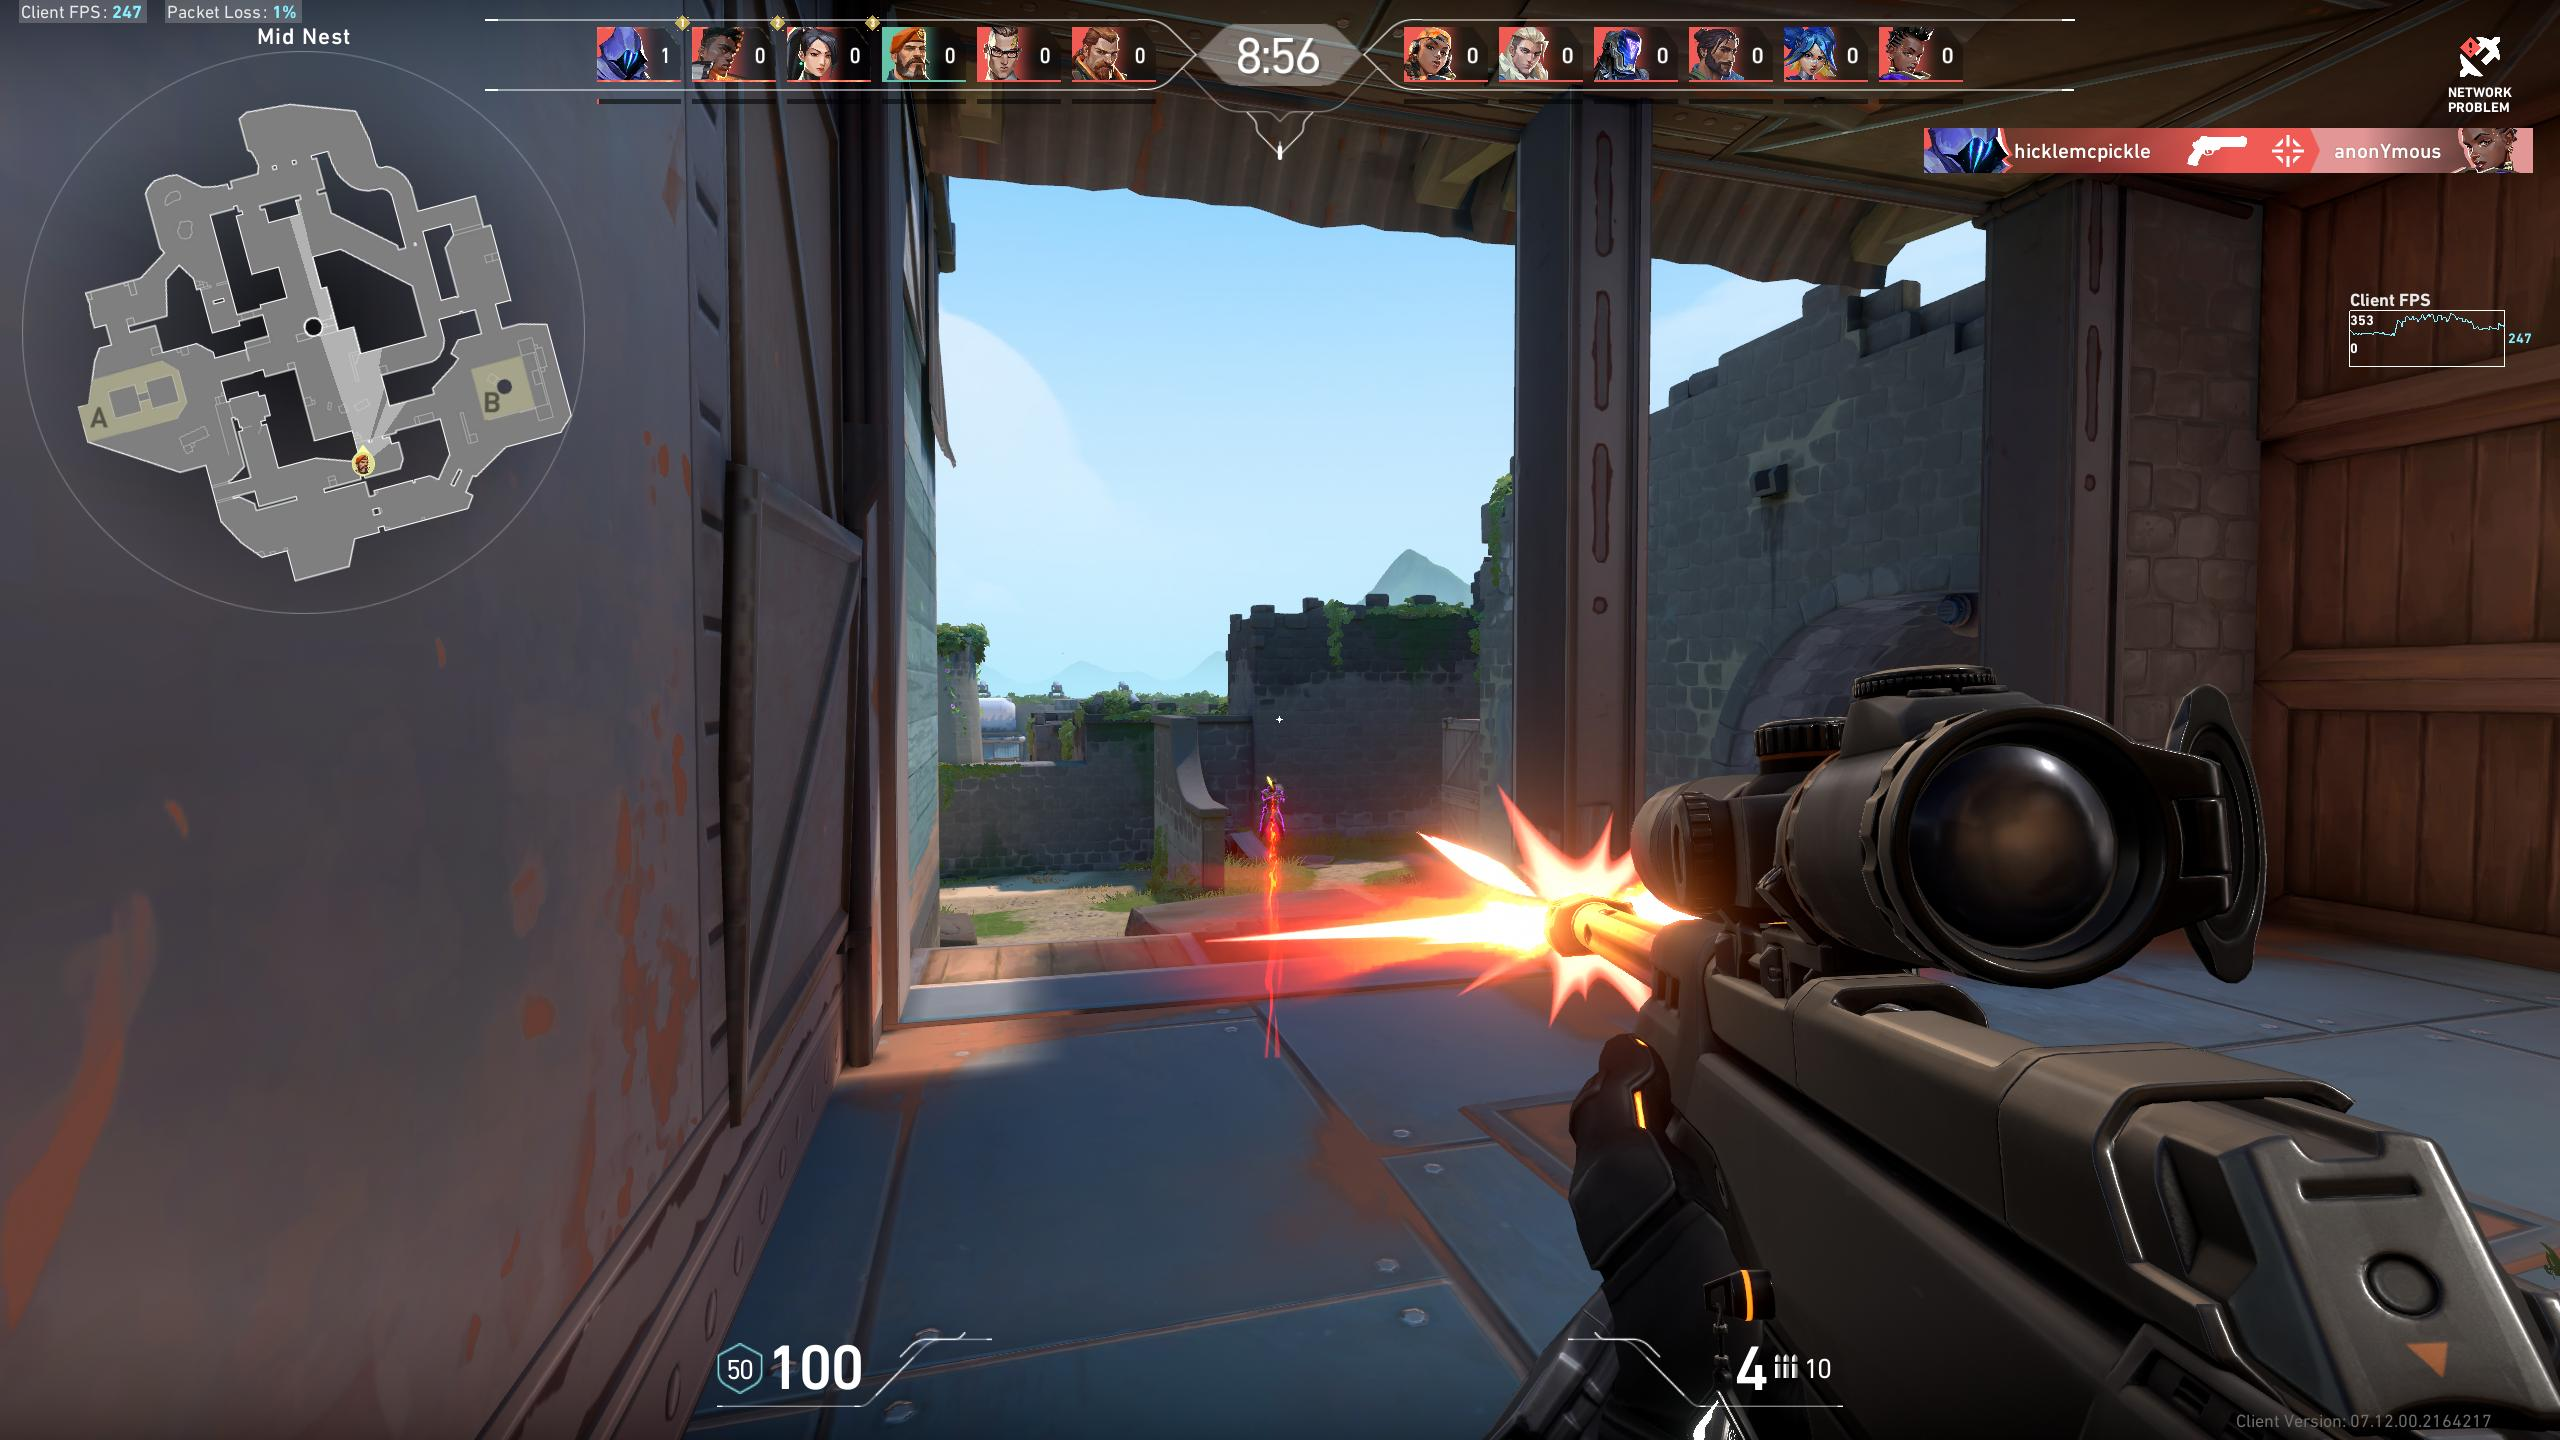enemyBody: (1269, 781, 1280, 842)
